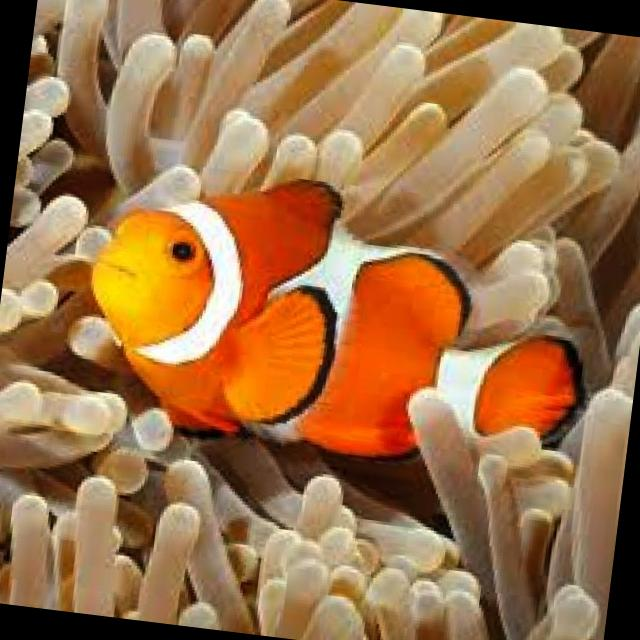ClownFish: (76, 153, 605, 482)
